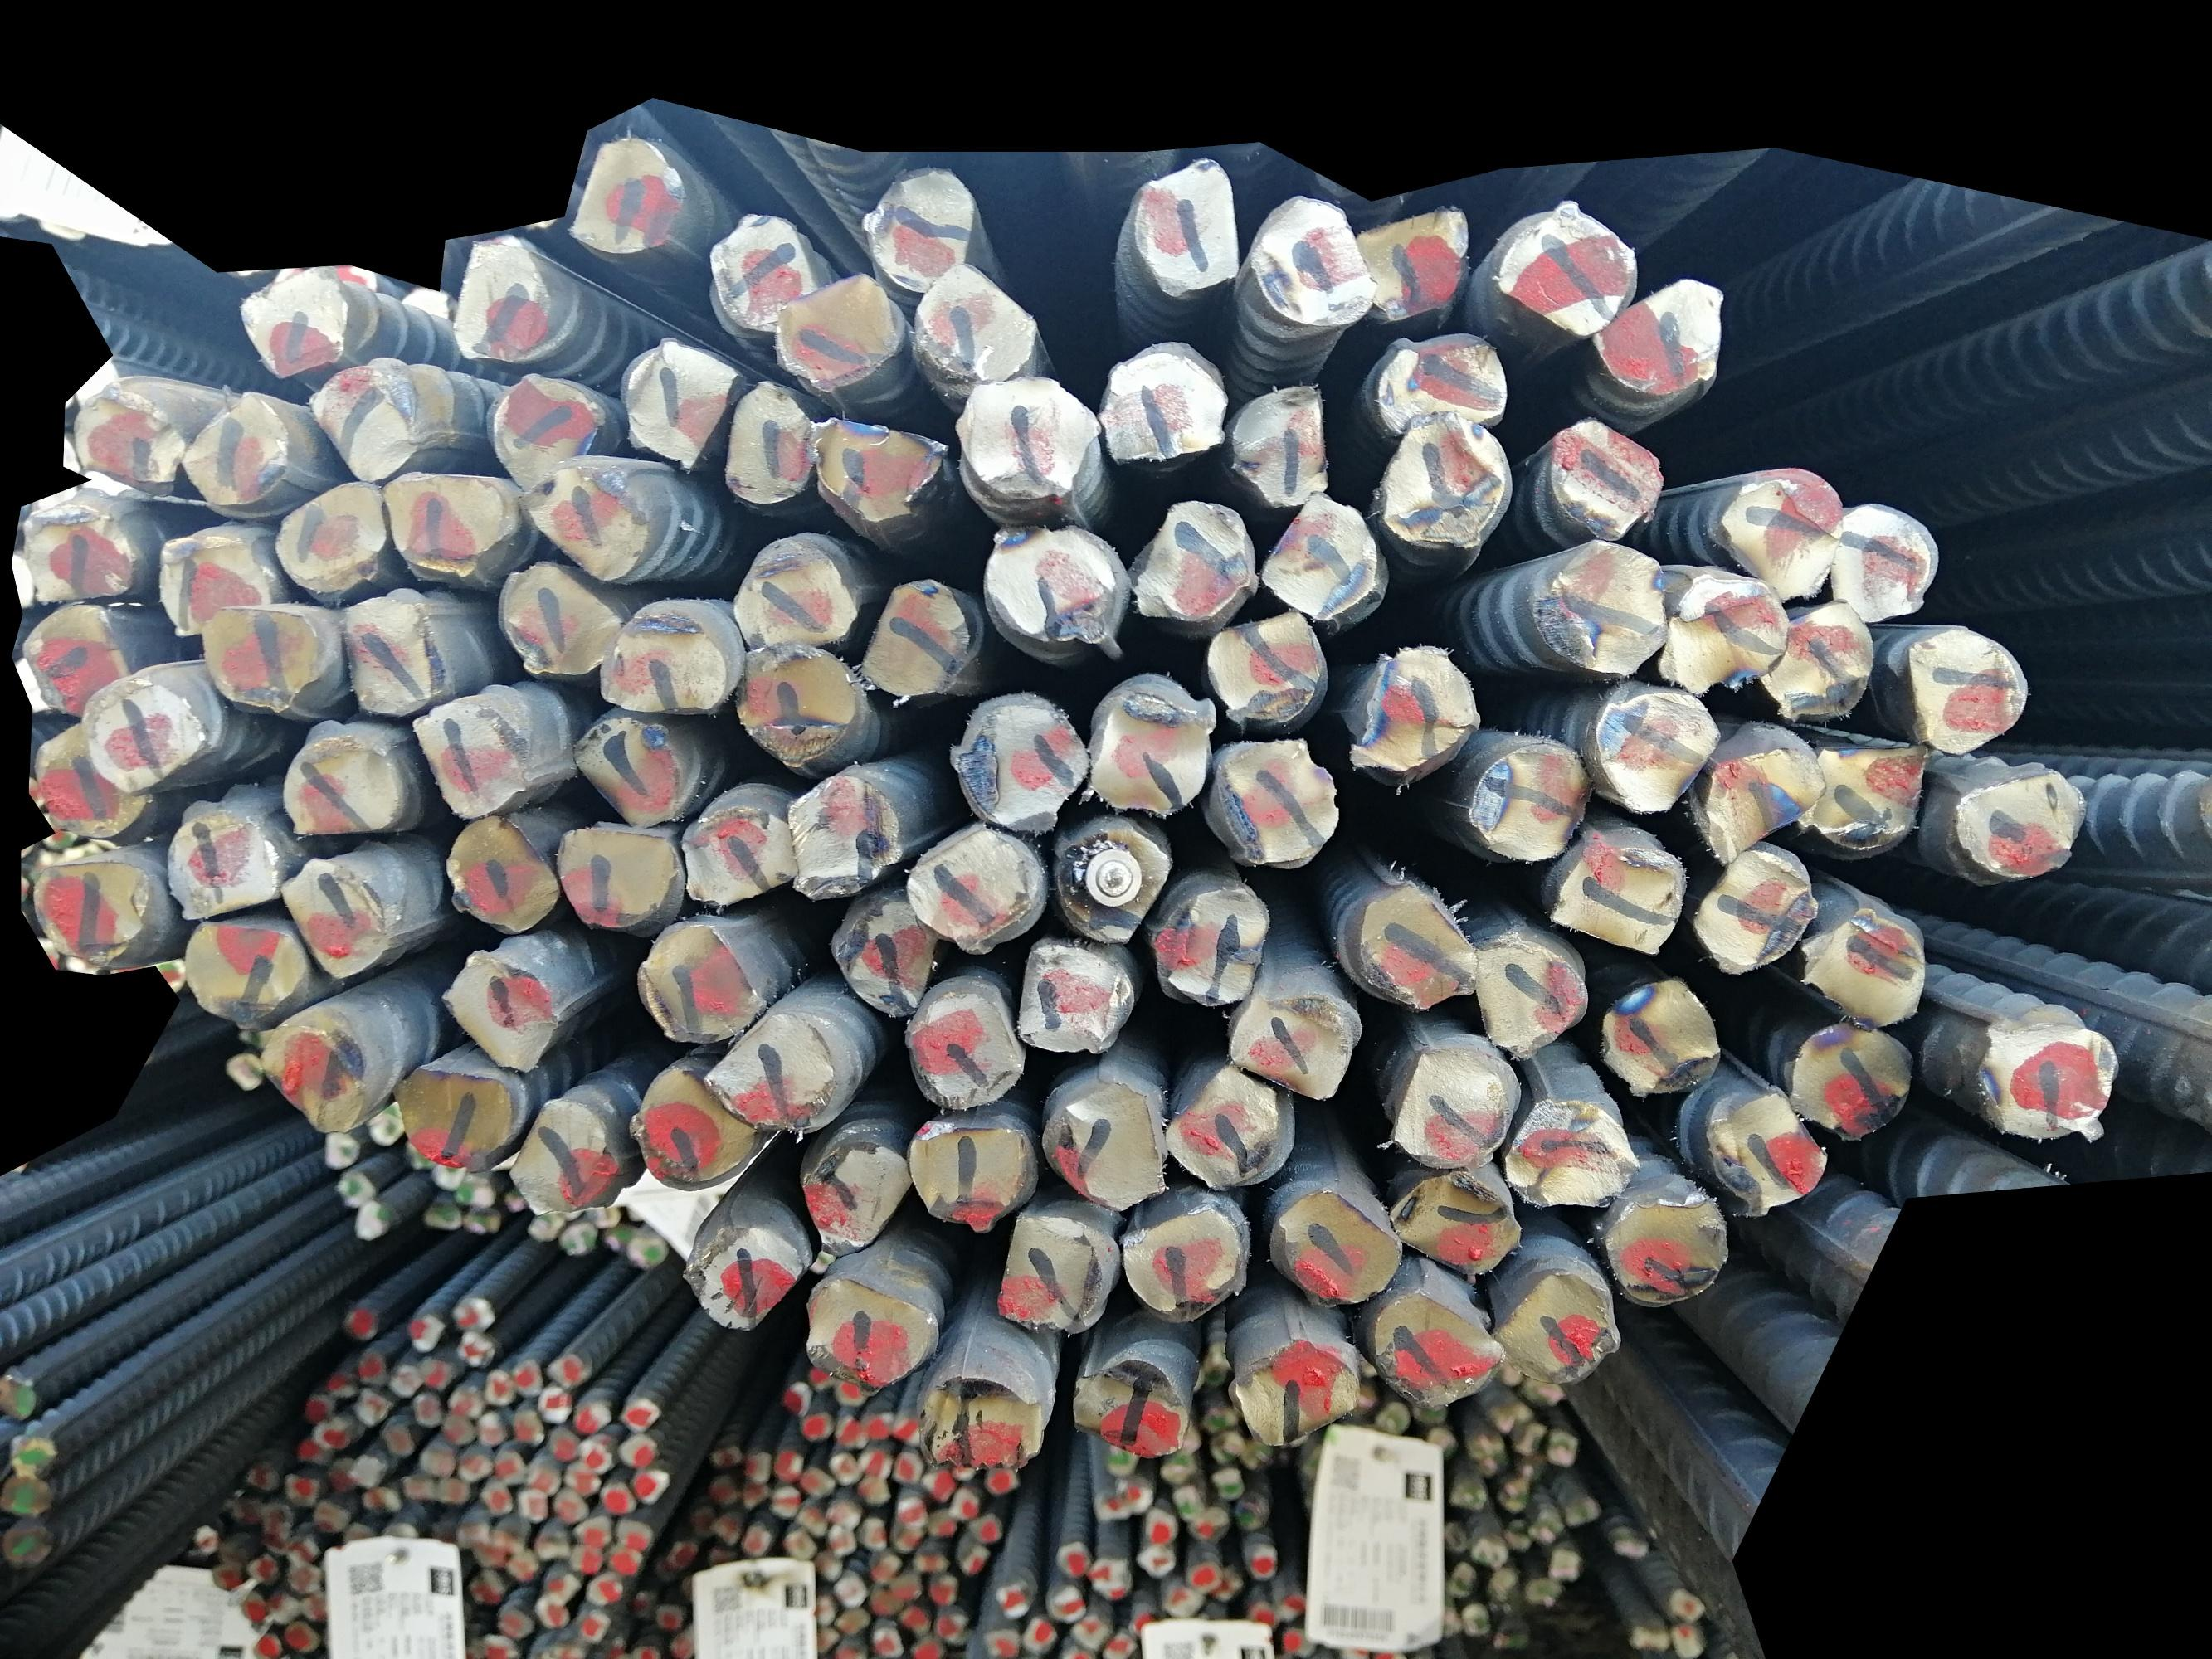bar: (1968, 997, 2114, 1147), (950, 690, 1093, 836), (1895, 617, 2032, 769), (1496, 202, 1642, 342), (1787, 897, 1937, 1032), (793, 1263, 945, 1394), (1375, 411, 1513, 554), (976, 516, 1119, 652), (1137, 866, 1272, 1009), (1590, 680, 1724, 824), (1532, 533, 1666, 676), (1088, 674, 1218, 819), (33, 835, 162, 981), (1541, 829, 1691, 955), (959, 371, 1096, 505), (1785, 1016, 1919, 1154), (1349, 882, 1483, 1019), (1112, 1180, 1245, 1319), (1658, 558, 1787, 701), (1241, 188, 1367, 335), (987, 1197, 1112, 1344), (1944, 763, 2093, 885), (1590, 267, 1727, 399), (1215, 734, 1346, 873), (1717, 458, 1842, 603), (1035, 1079, 1171, 1211), (1342, 645, 1480, 775), (446, 936, 570, 1080), (1598, 964, 1719, 1112), (906, 253, 1041, 385), (892, 979, 1027, 1112), (1374, 1276, 1504, 1412), (1489, 1256, 1625, 1387), (1689, 840, 1818, 978), (610, 331, 743, 464), (702, 1004, 833, 1138), (1381, 1040, 1515, 1171), (624, 918, 762, 1046), (192, 598, 335, 720), (1693, 727, 1823, 859), (70, 667, 204, 796), (777, 765, 898, 908), (629, 1061, 760, 1192), (910, 817, 1039, 950), (1455, 732, 1590, 859), (1278, 1182, 1403, 1317), (852, 160, 981, 291), (1009, 927, 1137, 1060), (1708, 1077, 1832, 1213), (1473, 924, 1595, 1061), (495, 549, 622, 680), (1511, 1084, 1642, 1211), (802, 410, 948, 523), (535, 446, 654, 586), (1379, 1168, 1527, 1279), (171, 908, 312, 1025), (1217, 981, 1367, 1091), (1808, 721, 1931, 854), (1217, 1328, 1353, 1448), (544, 812, 685, 927), (1368, 326, 1515, 436), (568, 125, 683, 265), (859, 565, 973, 706), (378, 455, 506, 580), (1539, 410, 1665, 537), (1265, 491, 1389, 620), (774, 274, 905, 396), (1135, 497, 1257, 627), (727, 532, 861, 650), (678, 1199, 807, 1321), (1755, 592, 1876, 723), (1133, 150, 1241, 295), (275, 469, 394, 599), (1173, 1060, 1292, 1190), (1093, 347, 1225, 464), (797, 1126, 913, 1258), (146, 528, 281, 643), (166, 793, 281, 927), (335, 577, 441, 721), (736, 636, 863, 756), (830, 884, 943, 1018), (307, 354, 425, 481), (439, 807, 558, 934), (903, 1119, 1032, 1236), (568, 709, 694, 828), (1056, 821, 1173, 948), (1602, 1192, 1731, 1307), (1208, 605, 1330, 725), (1351, 206, 1469, 328), (17, 493, 145, 606), (277, 854, 390, 981), (702, 204, 814, 333), (31, 721, 148, 843), (279, 725, 392, 850), (260, 1002, 370, 1131), (917, 1364, 1049, 1471), (176, 390, 298, 505), (673, 796, 797, 910), (509, 1094, 619, 1222), (1827, 495, 1937, 622), (21, 599, 134, 720), (601, 603, 729, 709), (485, 369, 601, 481), (239, 268, 361, 375), (1234, 378, 1330, 512), (450, 232, 551, 359), (390, 1061, 518, 1162), (1072, 1340, 1187, 1452), (718, 371, 812, 505), (417, 701, 523, 819), (68, 387, 183, 491)
